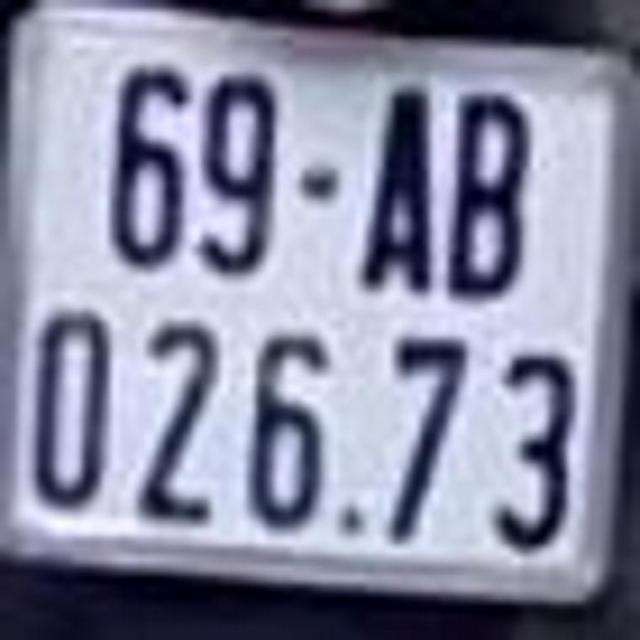0: (23, 298, 108, 505)
2: (133, 311, 216, 524)
3: (491, 339, 578, 556)
6: (244, 317, 328, 534), (108, 57, 190, 274)
7: (386, 324, 469, 548)
9: (197, 57, 280, 281)
A: (360, 76, 432, 302)
B: (447, 83, 524, 303)
